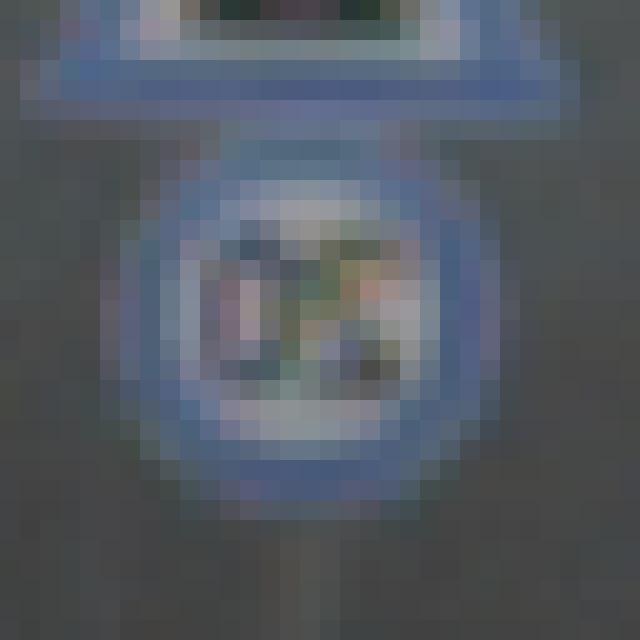SPEED LIMIT 20: (101, 156, 482, 494)
